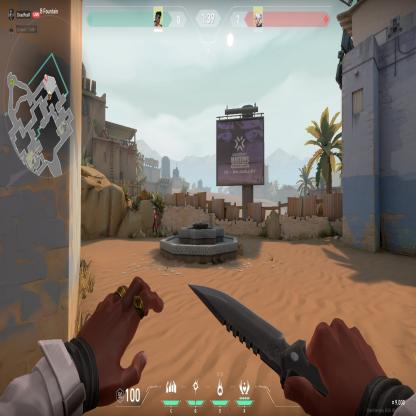enemy: (152, 209, 158, 238)
